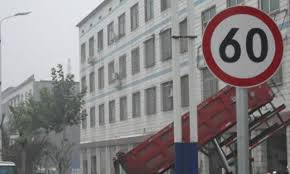Speed_limit_60km: (200, 6, 284, 87)
